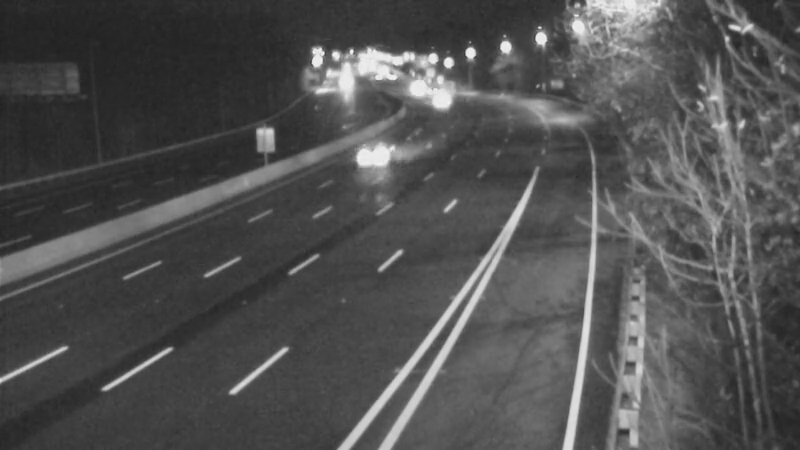vehicle: (336, 119, 416, 199), (390, 57, 440, 107), (420, 65, 470, 115), (417, 79, 467, 129)
